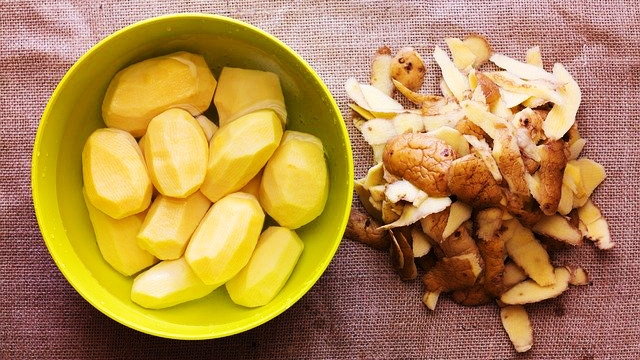kitchen_waste: (96, 44, 235, 131), (196, 100, 295, 205), (119, 243, 263, 315), (71, 180, 167, 279), (186, 182, 271, 289), (73, 124, 163, 225), (263, 121, 336, 237), (126, 179, 225, 262), (225, 218, 311, 313), (138, 105, 217, 201), (372, 123, 468, 201), (429, 84, 544, 145), (209, 60, 303, 134), (479, 209, 564, 286), (543, 149, 627, 225), (528, 54, 593, 143), (416, 250, 501, 314), (343, 72, 431, 133), (503, 259, 598, 314), (440, 145, 513, 207), (365, 39, 451, 91), (484, 292, 547, 360), (438, 21, 511, 71), (564, 190, 619, 254), (375, 228, 428, 282)
